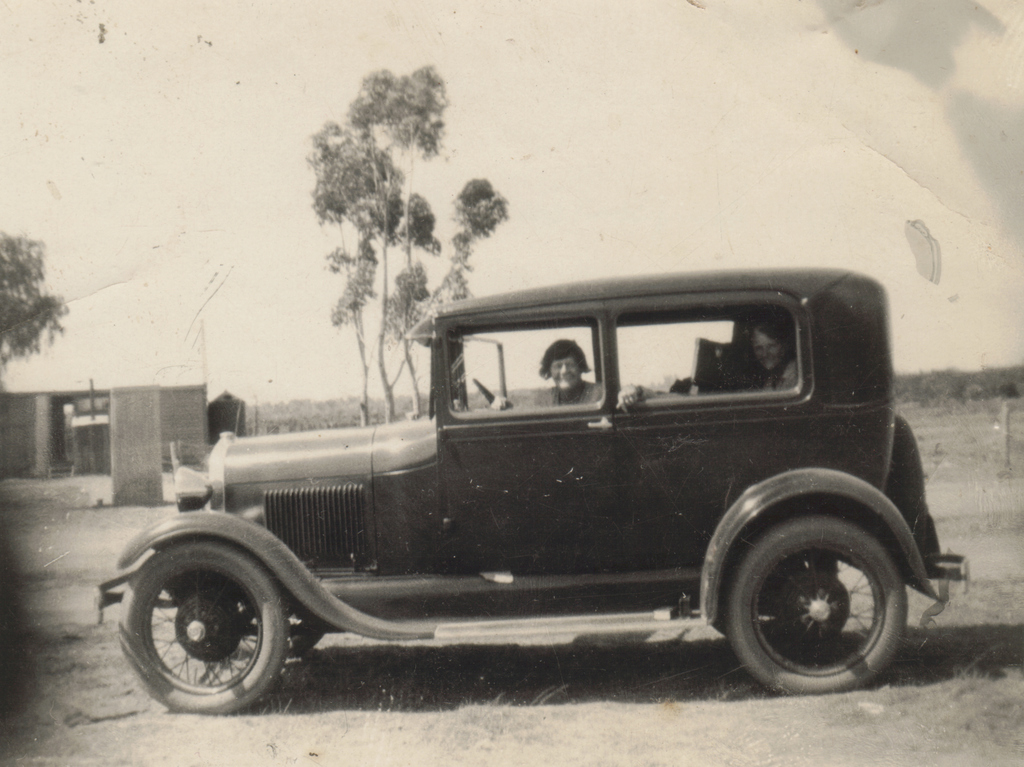person: (716, 314, 800, 392)
